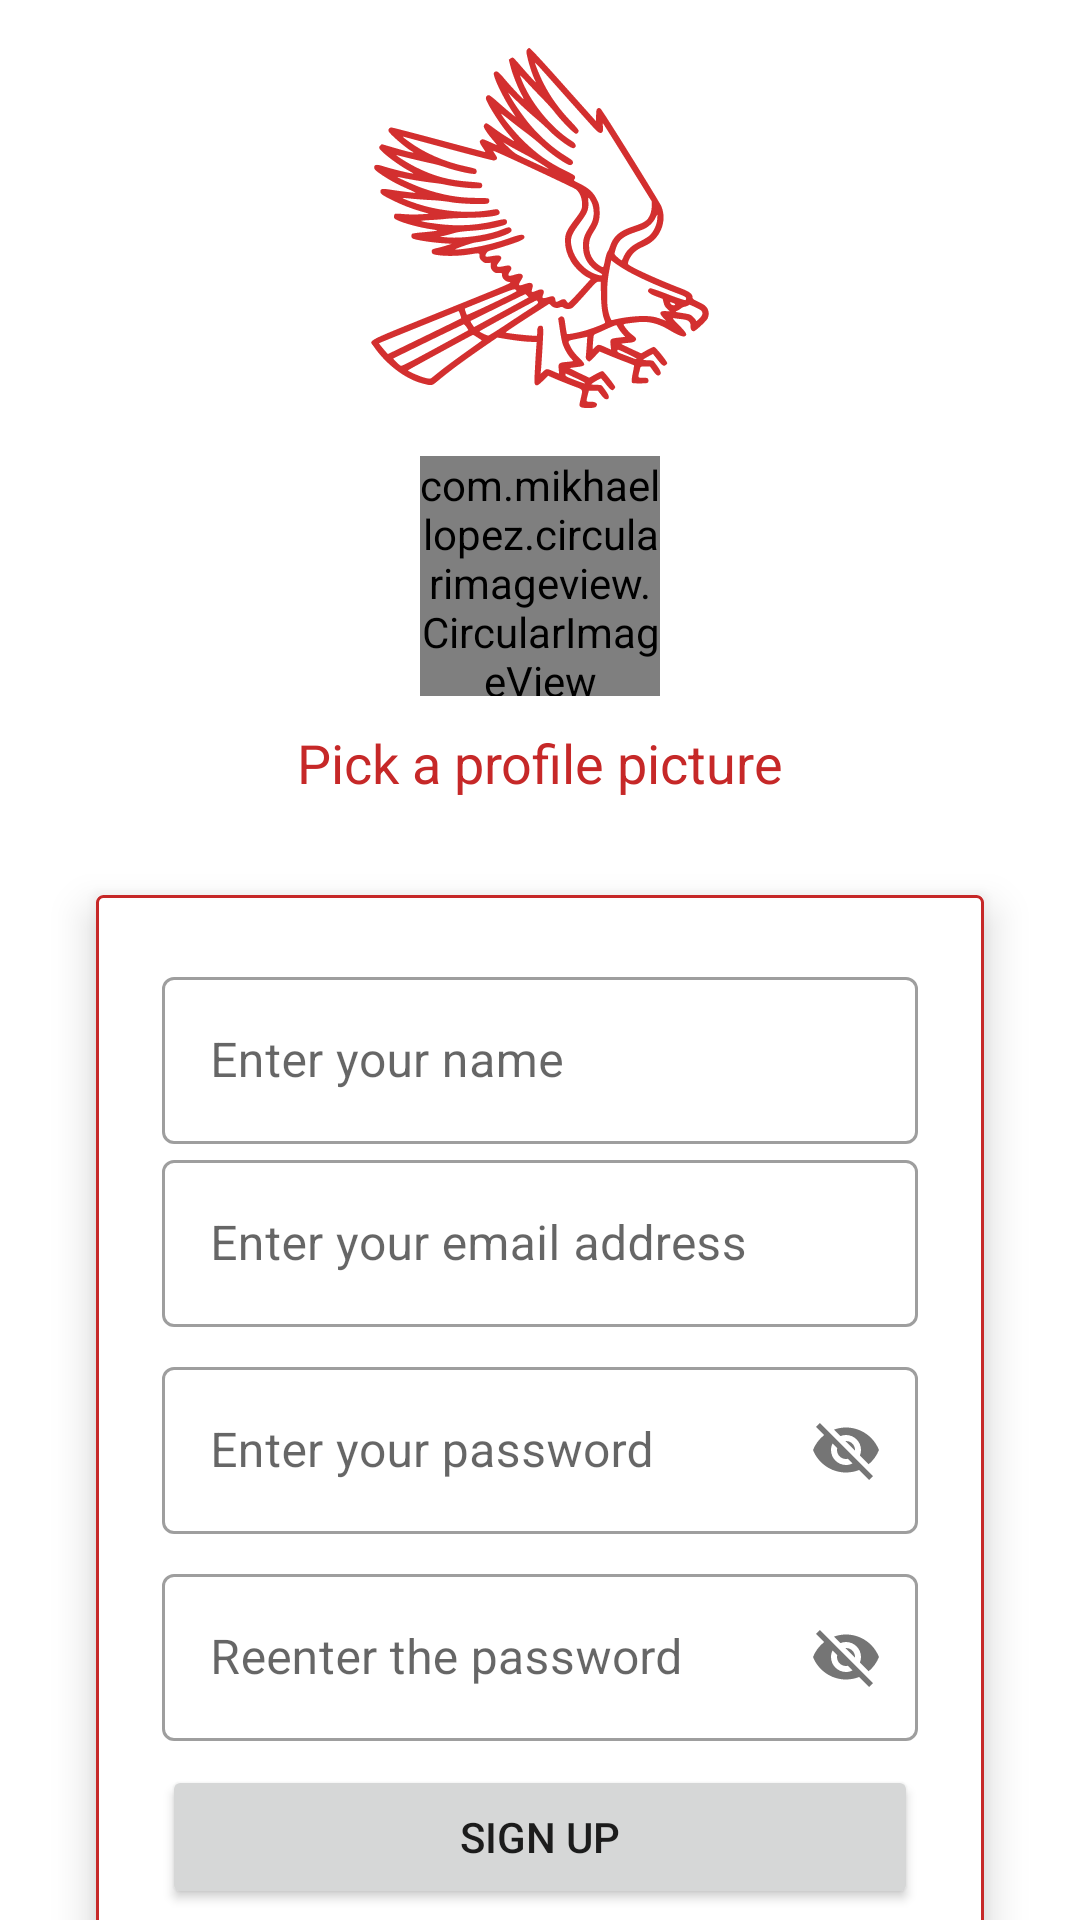

Screen size 1080×1920. Icon name, then its center in pixels as (x=x, y=y):
eagle: (x=540, y=228)
